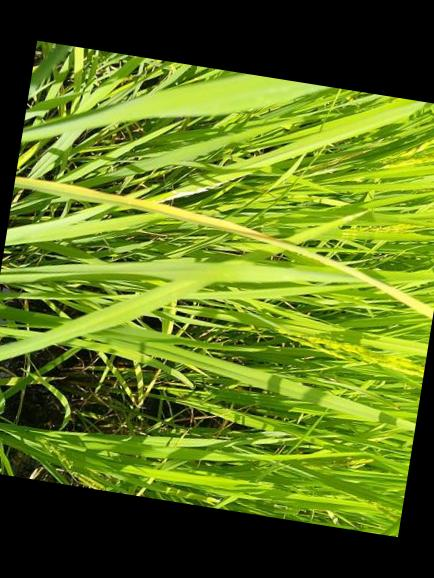Leaf Blight: (14, 176, 433, 321)
